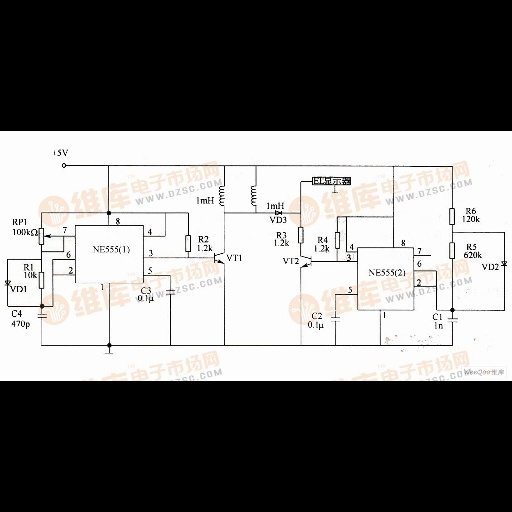capacitor: (161, 286, 181, 299), (329, 312, 343, 326), (447, 316, 459, 325), (36, 312, 49, 320)
firstresistance: (36, 269, 46, 295), (446, 207, 457, 228), (447, 239, 457, 262), (183, 233, 193, 254), (296, 225, 306, 246), (333, 230, 342, 250)
inductor: (248, 184, 259, 210), (217, 183, 227, 209)
npn: (298, 253, 317, 274), (212, 248, 227, 271)
seconddiode: (499, 255, 508, 269)
